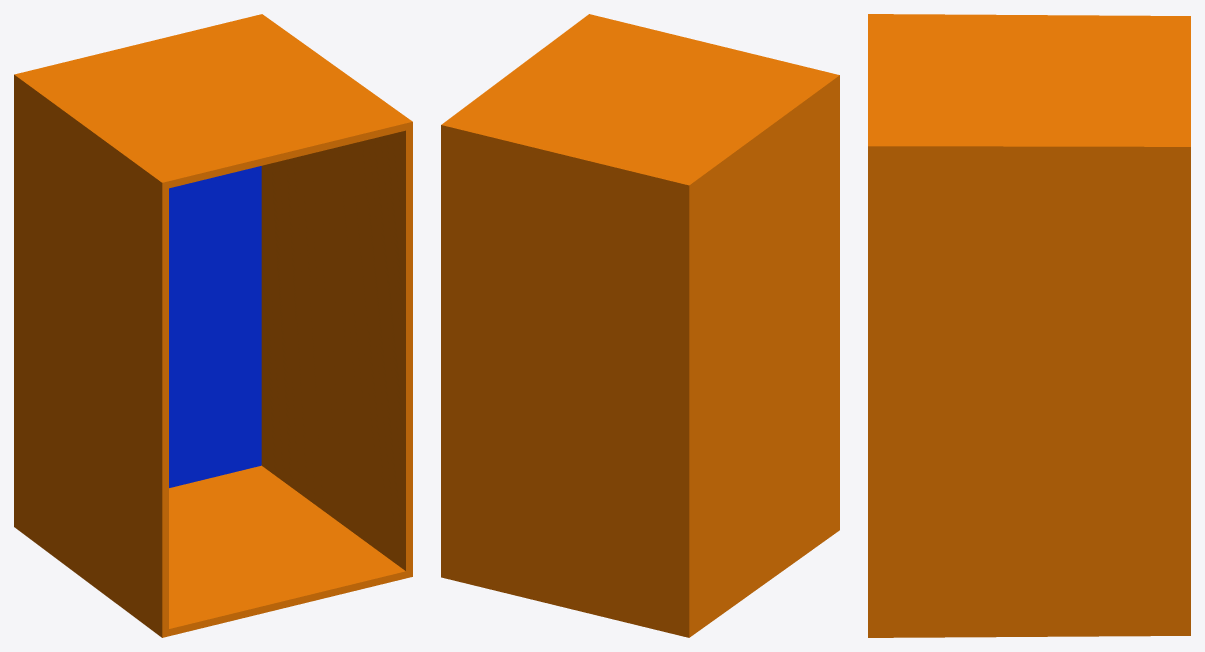
3 views of the same model, side by side, from view 1: azimuth 30°, elevation 25°; view 2: azimuth 150°, elevation 25°; view 3: azimuth 270°, elevation 25° (orthographic). The views are drawn at different scales.
Parts seen in each view (by area): view 1: Box001, Box002; view 2: Box001; view 3: Box001.
Part boxes in pixels (x1=…): Box001: x1=14, y1=14, x2=412, y2=637; Box002: x1=169, y1=166, x2=261, y2=487; Box001: x1=441, y1=14, x2=839, y2=637; Box001: x1=868, y1=14, x2=1190, y2=637.
Bounding box in the file's own units: 1.33 × 2.31 × 1.37.
